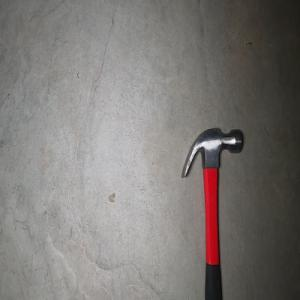Hammer: (179, 126, 242, 300)
